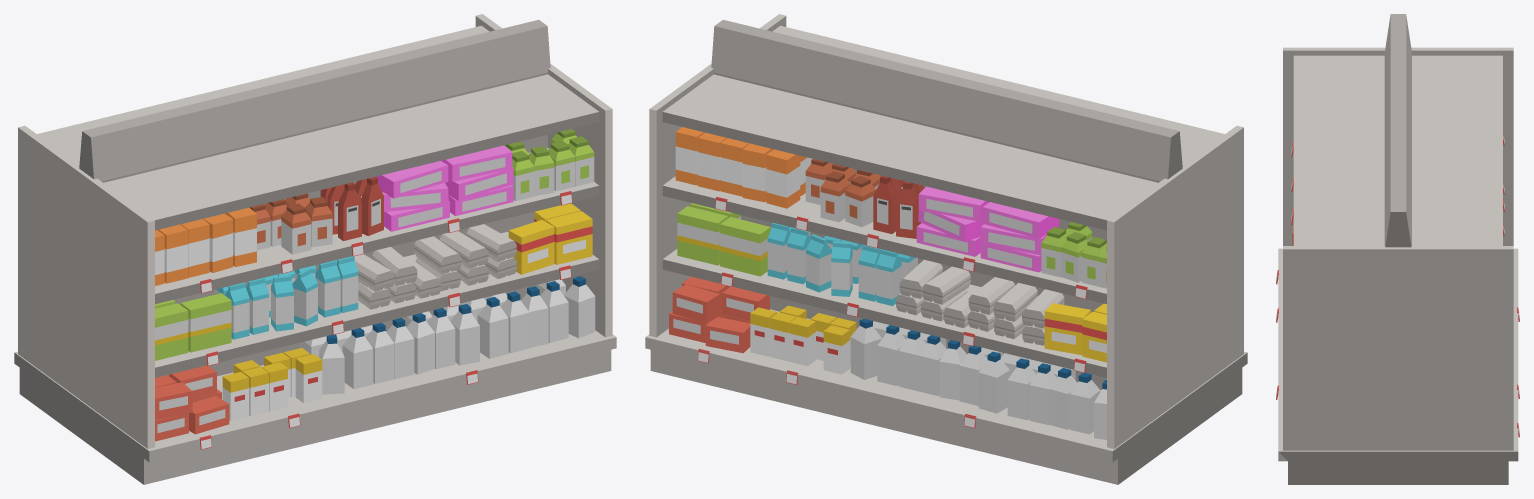
Rendered from ShelfIslePreset2.glb.
The picture shows the model from 3 angles, left to right: view 1: azimuth 30°, elevation 25°; view 2: azimuth 150°, elevation 25°; view 3: azimuth 270°, elevation 25°; orthographic projection. The views are drawn at different scales.
Parts seen in each view (by area): view 1: SI_Prop_Shelf_Isle_Preset_02, SI_Prop_Shelf_Isle_Preset_Items, SI_Prop_Shelf_Isle_Preset_Pricetags; view 2: SI_Prop_Shelf_Isle_Preset_02, SI_Prop_Shelf_Isle_Preset_Items, SI_Prop_Shelf_Isle_Preset_Pricetags; view 3: SI_Prop_Shelf_Isle_Preset_02, SI_Prop_Shelf_Isle_Preset_Pricetags.
Boxes of the visible parts, x1,y1,x2,y2 form: SI_Prop_Shelf_Isle_Preset_02: (14,14,616,484); SI_Prop_Shelf_Isle_Preset_Items: (155,129,595,441); SI_Prop_Shelf_Isle_Preset_Pricetags: (199,191,572,449); SI_Prop_Shelf_Isle_Preset_02: (645,14,1247,484); SI_Prop_Shelf_Isle_Preset_Items: (669,127,1106,439); SI_Prop_Shelf_Isle_Preset_Pricetags: (697,197,1087,428); SI_Prop_Shelf_Isle_Preset_02: (1278,14,1518,484); SI_Prop_Shelf_Isle_Preset_Pricetags: (1276,133,1519,437).
Size of the model in its own units: 0.0688 by 0.0428 by 0.035.
Materials: 1 (1 with a texture image).
